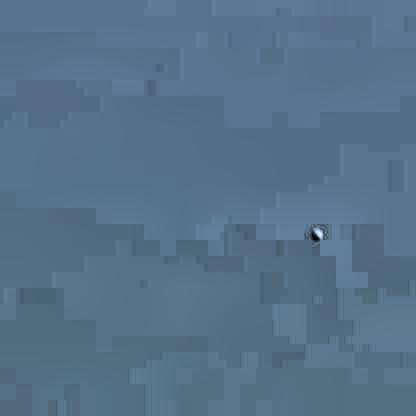golfball: (307, 225, 320, 241)
